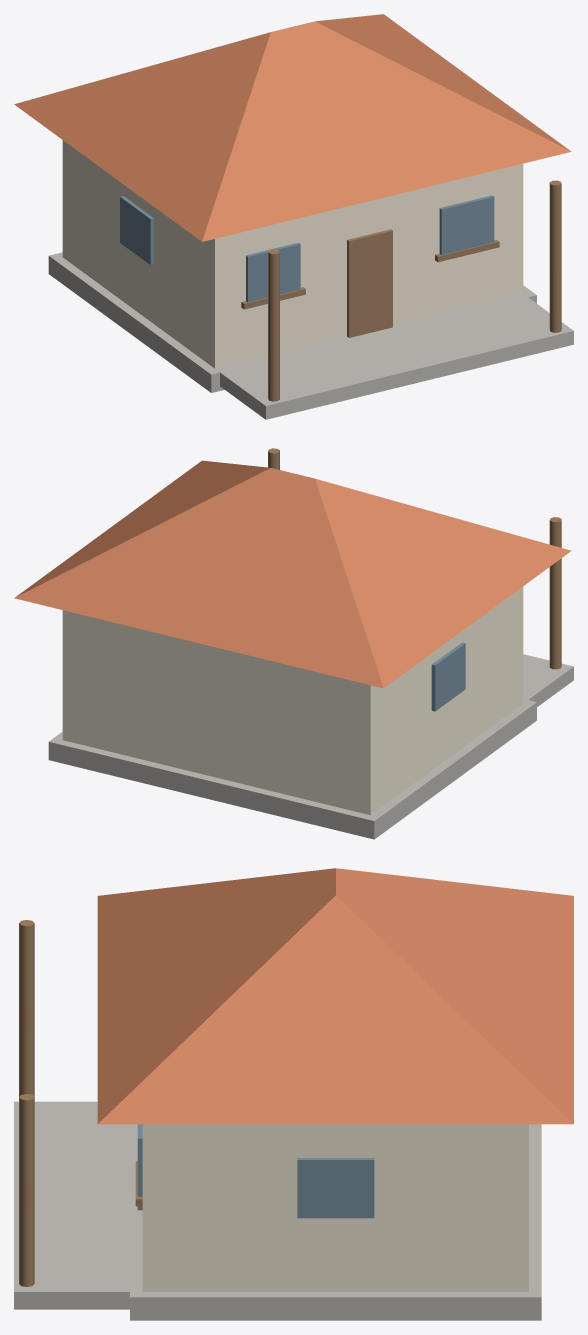
File: house_a.glb
3 views of the same model, one above another, from view 1: azimuth 30°, elevation 25°; view 2: azimuth 150°, elevation 25°; view 3: azimuth 270°, elevation 25° (orthographic). The views are drawn at different scales.
Parts seen in each view (by area): view 1: House; view 2: House; view 3: House.
Part boxes in pixels (bbox=[...]): House: bbox=[14, 14, 573, 419]; House: bbox=[14, 448, 573, 839]; House: bbox=[14, 868, 573, 1320].
Size of the model in its own units: 8.4 by 5.8 by 8.7.
